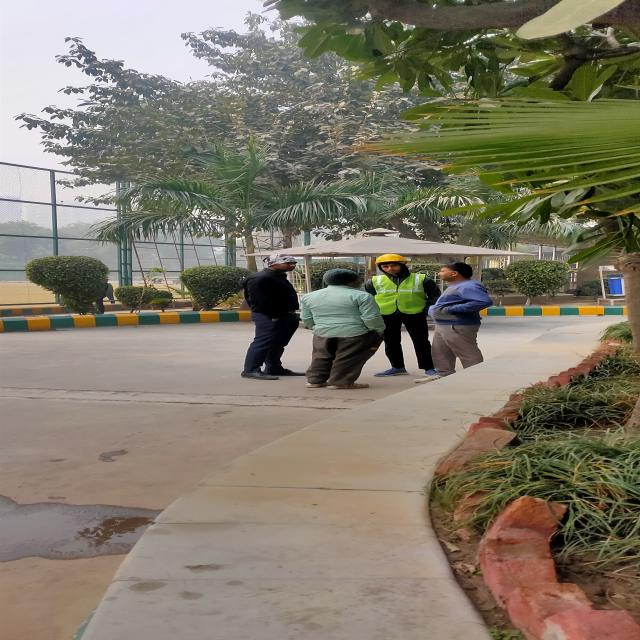safe: (371, 254, 432, 376)
unsafe: (302, 268, 383, 388), (239, 252, 295, 376), (435, 264, 492, 364)
